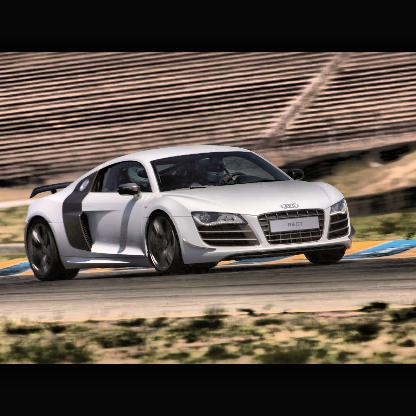Audi R8 Coupe 2012: (23, 144, 359, 285)
